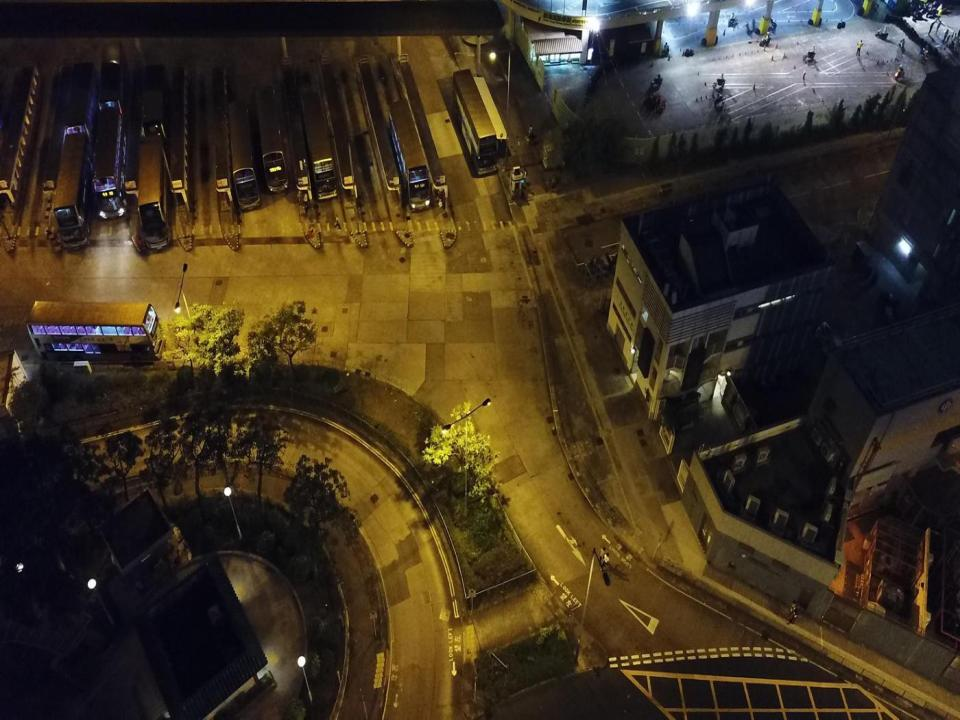bus: (28, 300, 166, 364), (52, 134, 96, 250), (452, 69, 498, 177), (389, 99, 430, 210), (301, 90, 338, 200), (138, 134, 173, 250), (93, 106, 127, 219), (228, 100, 261, 212), (255, 88, 288, 194), (66, 62, 98, 155), (144, 63, 174, 149), (100, 41, 131, 123)
